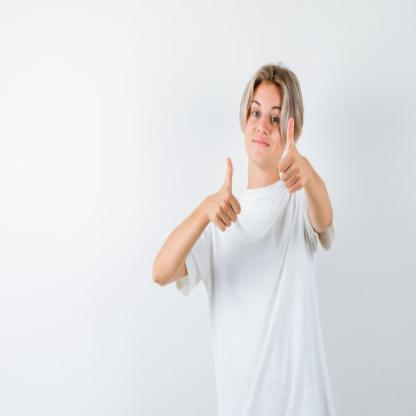thumb_up: (203, 154, 243, 233), (273, 113, 309, 195)
